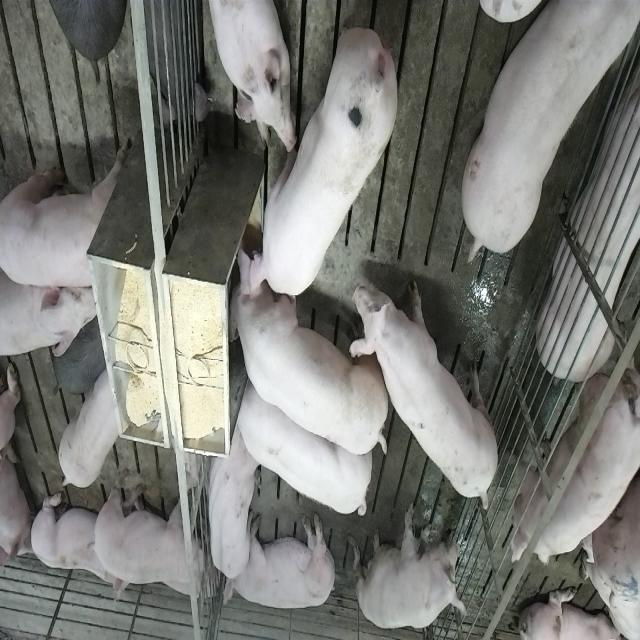Feeding: (242, 22, 400, 304), (220, 256, 387, 462)
Lateral_lying: (539, 38, 640, 380), (222, 512, 338, 612)
Sitting: (356, 502, 466, 632)
Standing: (464, 0, 640, 260), (355, 258, 503, 510), (509, 366, 640, 572), (233, 377, 373, 521), (1, 138, 127, 289), (90, 464, 216, 596), (0, 254, 101, 362), (56, 366, 126, 491)
Sternal_lying: (204, 0, 294, 154), (29, 486, 124, 604), (203, 428, 261, 590)
